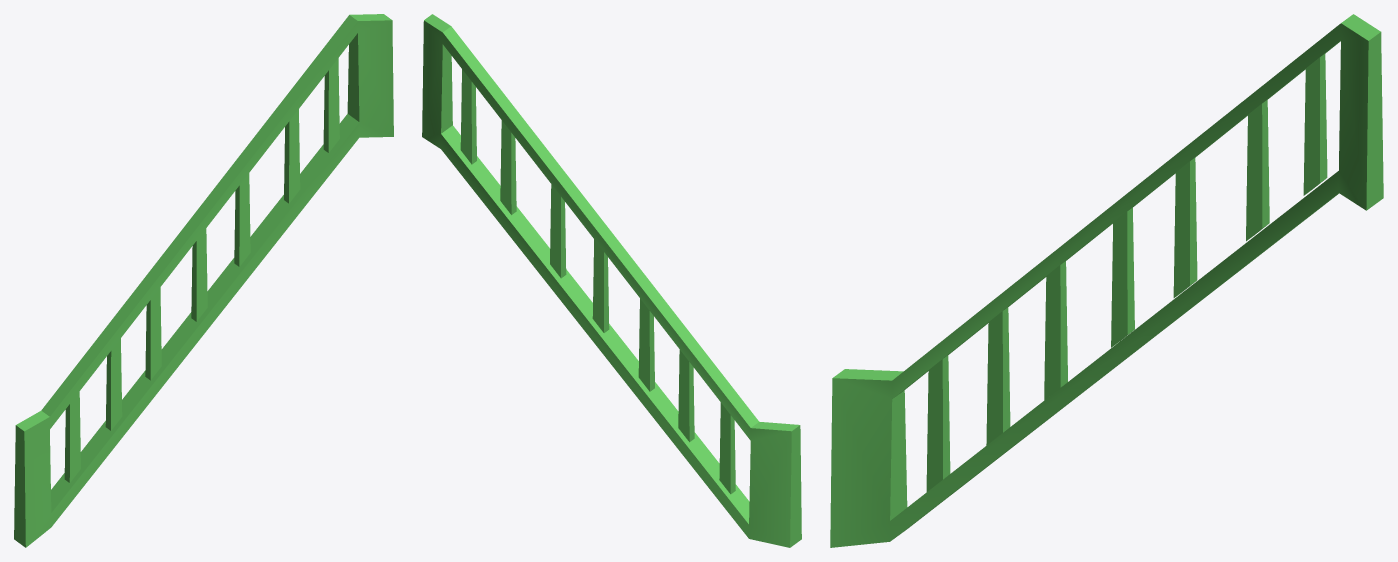
File: Gen_Handrail_Stairs2.fbx
3 renders of one model, left to right at view 1: azimuth 30°, elevation 25°; view 2: azimuth 150°, elevation 25°; view 3: azimuth 330°, elevation 25°, orthographic. The views are drawn at different scales.
Parts seen in each view (by area): view 1: Gen_Handrail_Stairs2; view 2: Gen_Handrail_Stairs2; view 3: Gen_Handrail_Stairs2.
Part boxes in pixels (x1,y1,x2,y2): Gen_Handrail_Stairs2: (14,14,393,547); Gen_Handrail_Stairs2: (422,14,801,547); Gen_Handrail_Stairs2: (830,14,1383,547).
Size of the model in its own units: 300 by 340 by 27.72.
